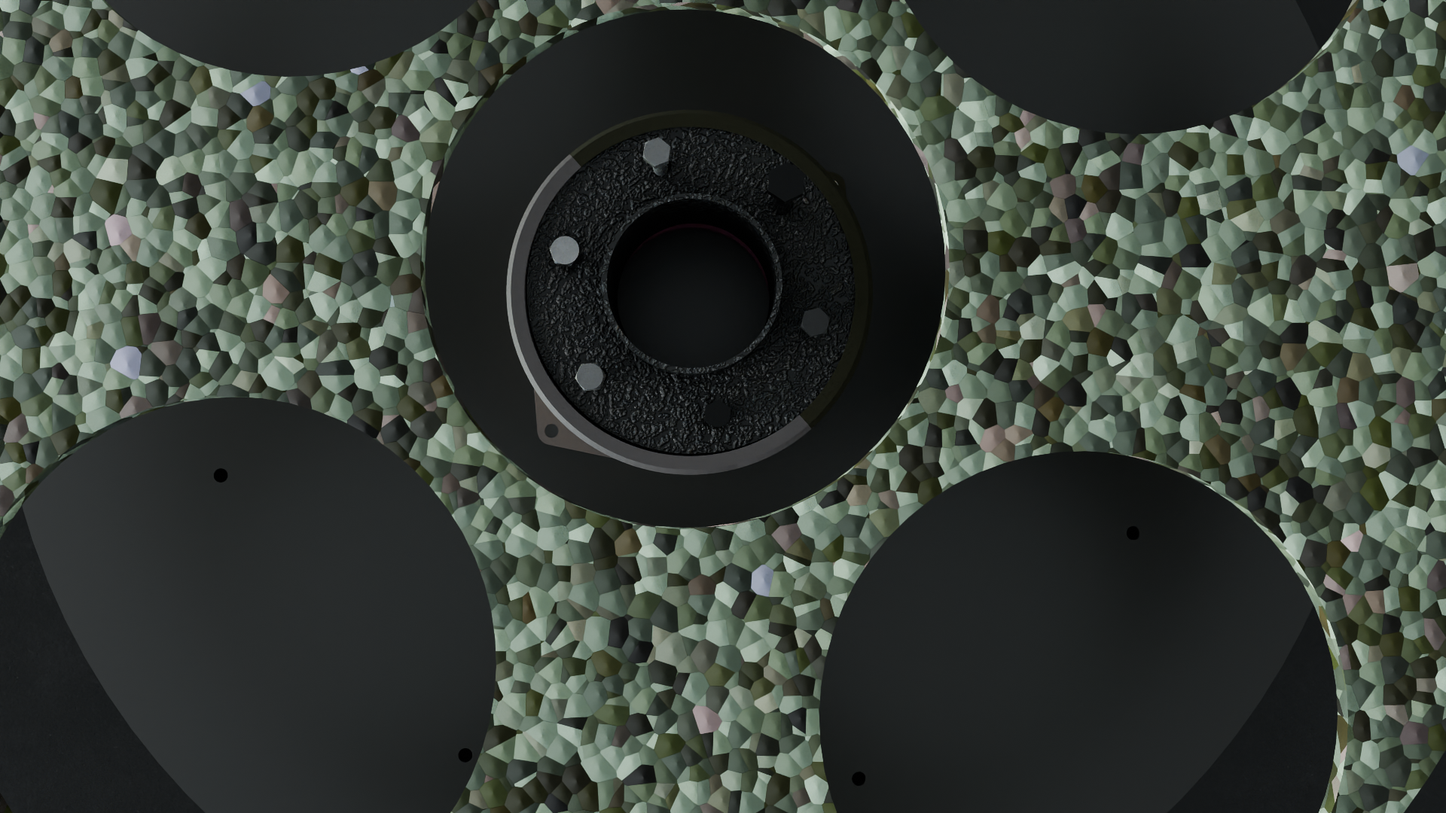bolt: (768, 163, 804, 202), (549, 236, 581, 266), (575, 363, 606, 391), (801, 308, 830, 336), (643, 137, 670, 166), (704, 400, 731, 429)
